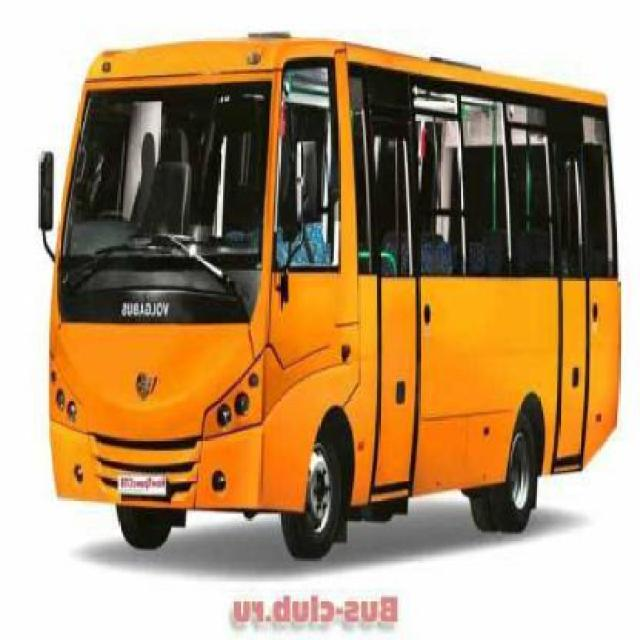bus: (35, 30, 622, 561)
